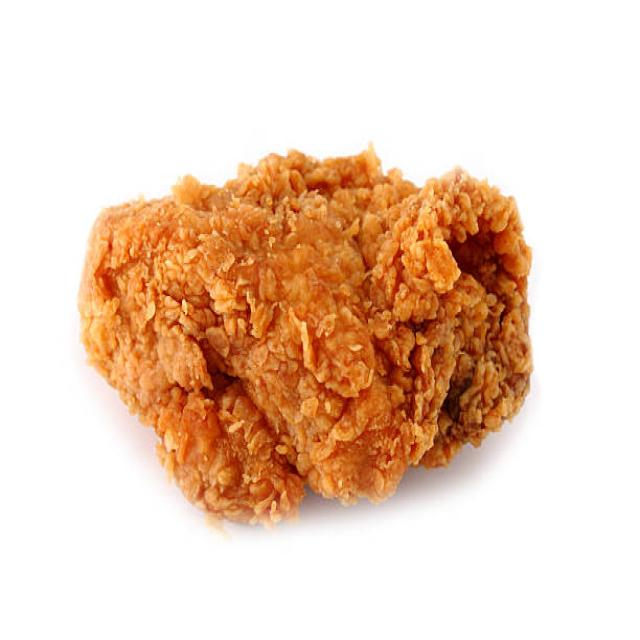Frango: (75, 143, 538, 526)
